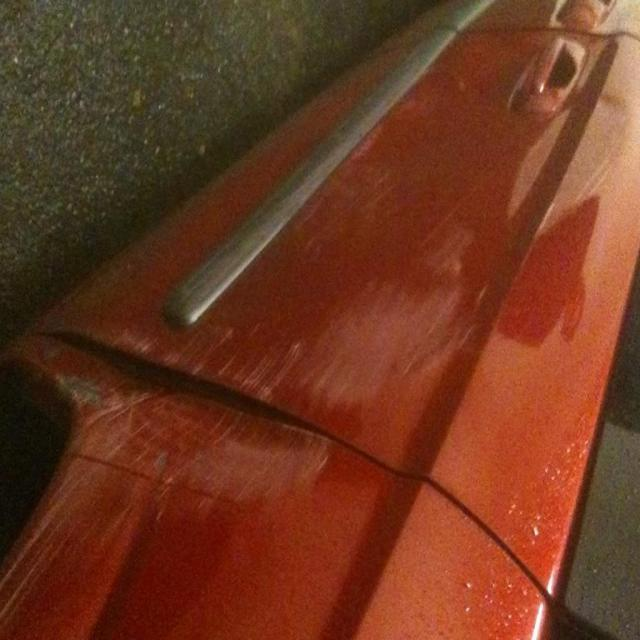scratch: (0, 312, 383, 522)
